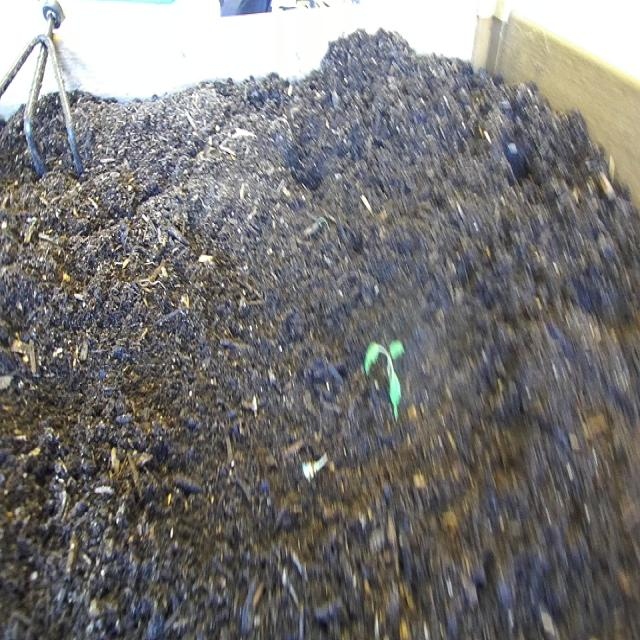Healthy: (362, 328, 410, 428)
